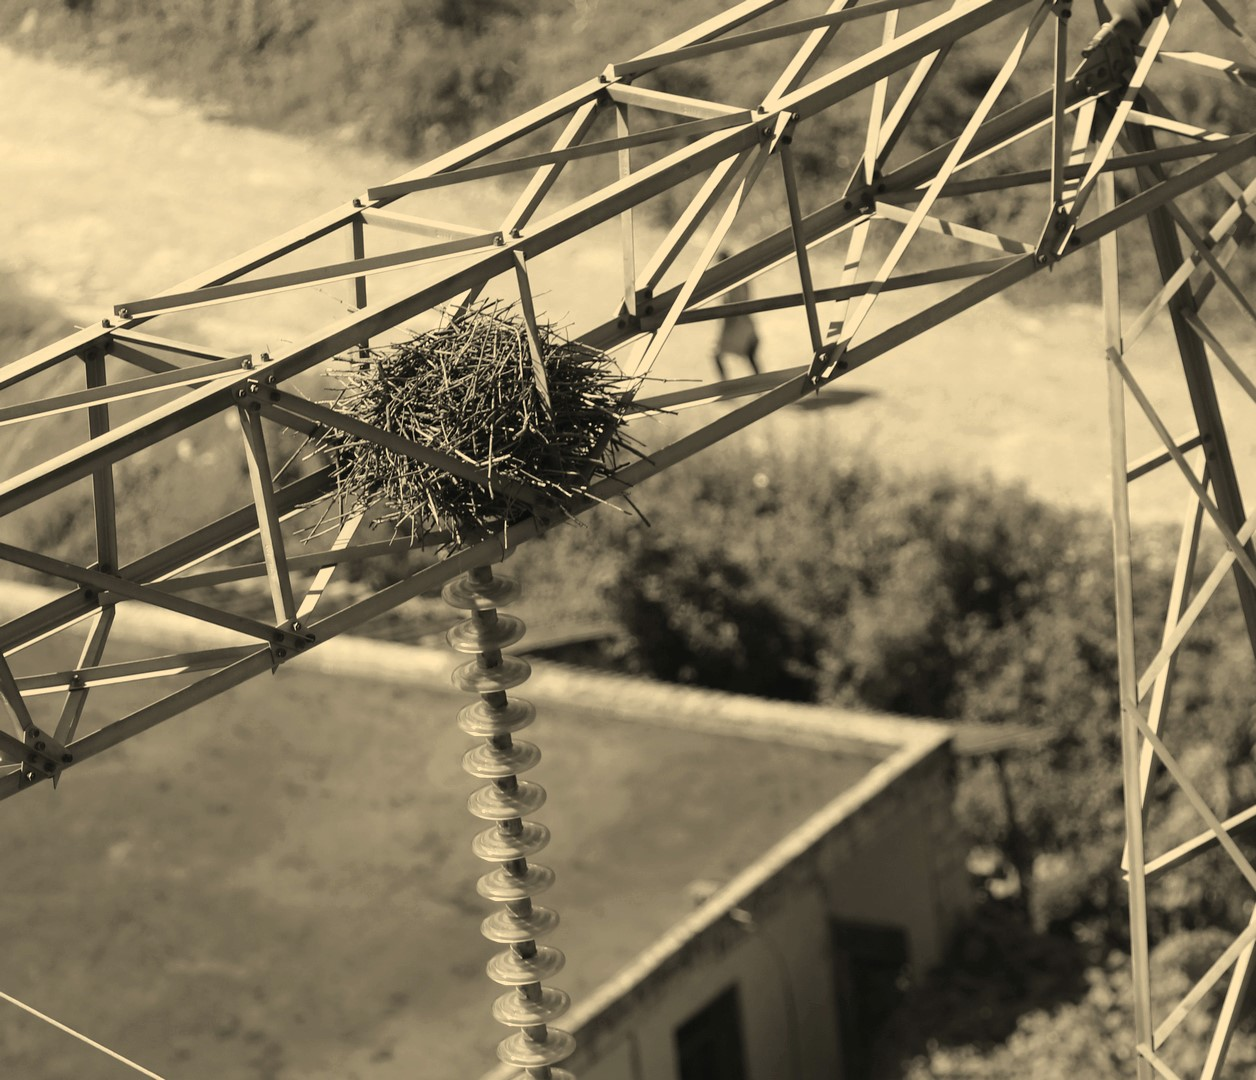niaowo: (329, 308, 638, 547)
